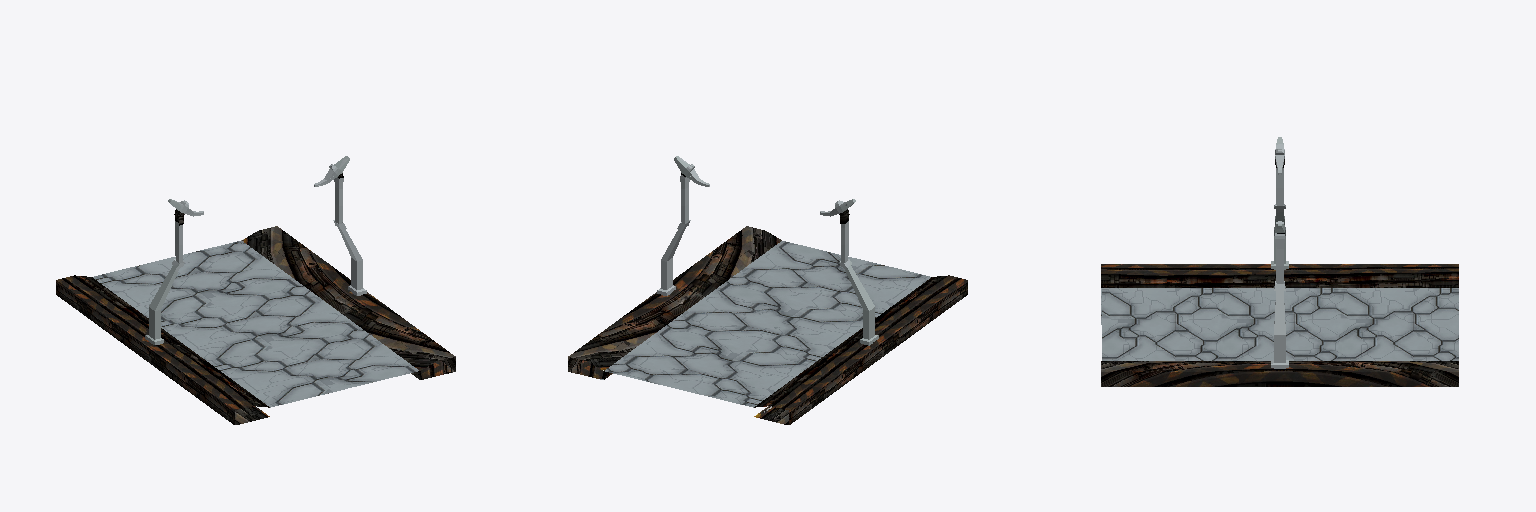
3 renders of one model, left to right at view 1: azimuth 30°, elevation 25°; view 2: azimuth 150°, elevation 25°; view 3: azimuth 270°, elevation 25°, orthographic.
Parts seen in each view (by area): view 1: Plane; view 2: Plane; view 3: Plane.
Part boxes in pixels (bbox=[...]): Plane: bbox=[56, 156, 455, 424]; Plane: bbox=[568, 156, 967, 424]; Plane: bbox=[1101, 137, 1458, 386].
Bounding box in the file's own units: 10 × 6.68 × 14.
Materials: 1 (1 with a texture image).